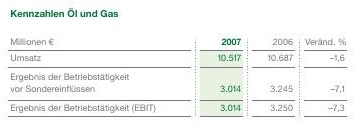table: (0, 0, 363, 127)
